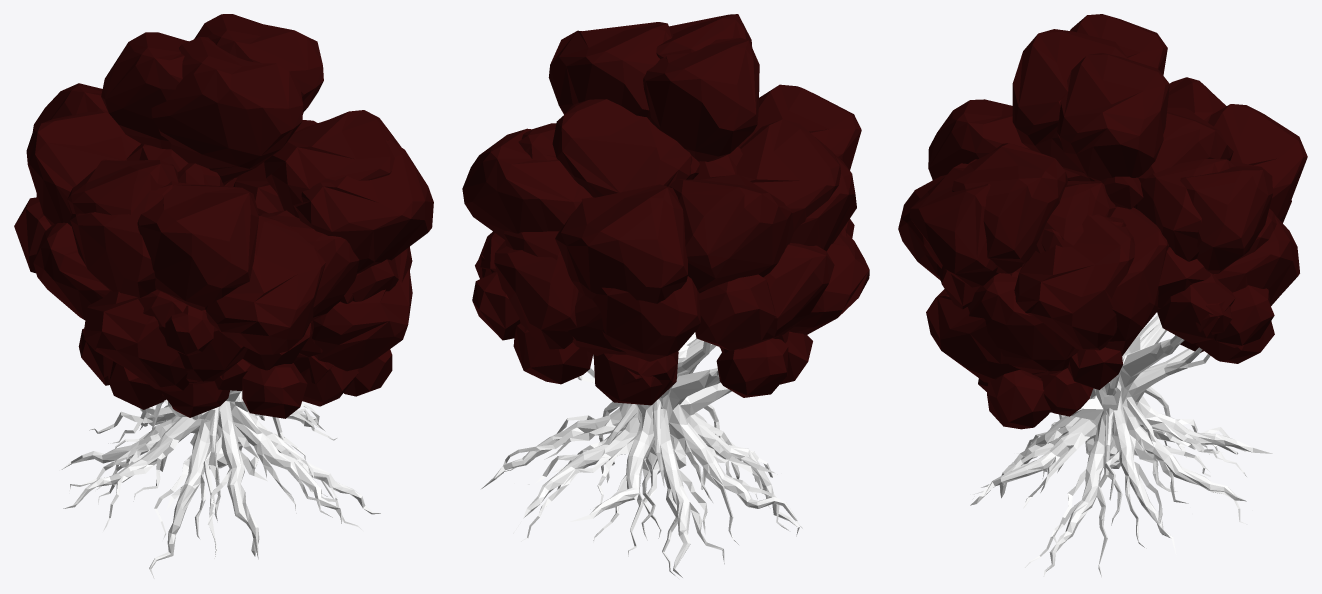
The model's file is TreeKapokier02.fbx.
3 renders of one model, left to right at view 1: azimuth 30°, elevation 25°; view 2: azimuth 150°, elevation 25°; view 3: azimuth 270°, elevation 25°, orthographic. The views are drawn at different scales.
Parts seen in each view (by area): view 1: TreeKapokier02_LOD0; view 2: TreeKapokier02_LOD0; view 3: TreeKapokier02_LOD0.
Part boxes in pixels (left/top/right/bottom): TreeKapokier02_LOD0: left=14, top=14, right=433, bottom=578; TreeKapokier02_LOD0: left=462, top=14, right=869, bottom=577; TreeKapokier02_LOD0: left=898, top=14, right=1307, bottom=577.
Size of what is drawn, in the model's own units: 2004 by 2775 by 2153.
